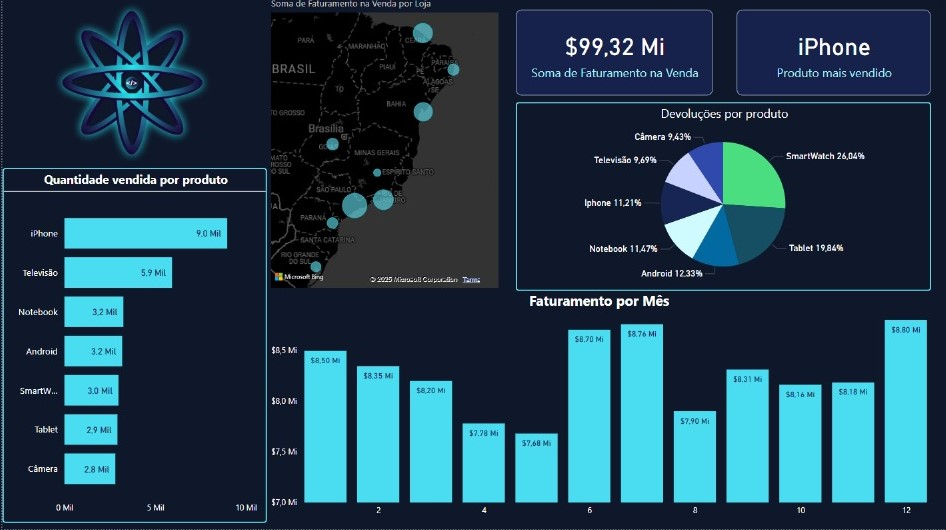

Layout of this report page (visuals, bound fields, positions):
{"tool":"powerbi","page":{"name":"Demonstrativo","canvas":[1280,720],"ordinal":0},"visuals":[{"type":"barChart","title":"Quantidade vendida por produto","fields":{"Y":["Sum(Base Vendas.Quantidade Vendida)"],"Category":["Base Vendas.Produto"]},"box":[0,231.2,357.5,480],"z":1000},{"type":"card","fields":{"Values":["Sum(Base Vendas.Faturamento na Venda)"]},"box":[694.1,17.4,266.2,115.7],"z":2000},{"type":"card","fields":{"Values":["Min(Base Vendas.Produto)"]},"box":[992.7,17.4,262.5,115.7],"z":3000},{"type":"columnChart","title":"Faturamento por Mês","fields":{"Y":["Sum(Base Vendas.Faturamento na Venda)"],"Category":["Base Vendas.Mês"]},"box":[358,397.8,897.2,313.8],"z":4000},{"type":"pieChart","title":"Devoluções por produto","fields":{"Y":["Sum(Base Devoluções.Quantidade Devolvida)"],"Category":["Base Devoluções.Produto"]},"box":[693.8,142.5,561.2,255],"z":5000},{"type":"map","fields":{"Category":["Base Vendas.Loja"],"Size":["Sum(Base Vendas.Faturamento na Venda)"]},"box":[358.8,0,317.5,397.5],"z":6000},{"type":"image","box":[37.5,0,276.2,231.2],"z":6001}]}

Visuals, with their boxes in screenshot pixels (x1, y1, x2, y2), scaled from the page's 1280x720 canvas onto the 946x530 screenshot:
"Quantidade vendida por produto" barChart: (0, 170, 264, 524)
card - Sum(Base Vendas.Faturamento na Venda): (513, 13, 710, 98)
card - Min(Base Vendas.Produto): (734, 13, 928, 98)
"Faturamento por Mês" columnChart: (265, 293, 928, 524)
"Devoluções por produto" pieChart: (513, 105, 928, 293)
map - Base Vendas.Loja x Sum(Base Vendas.Faturamento na Venda): (265, 0, 500, 293)
image: (28, 0, 232, 170)
